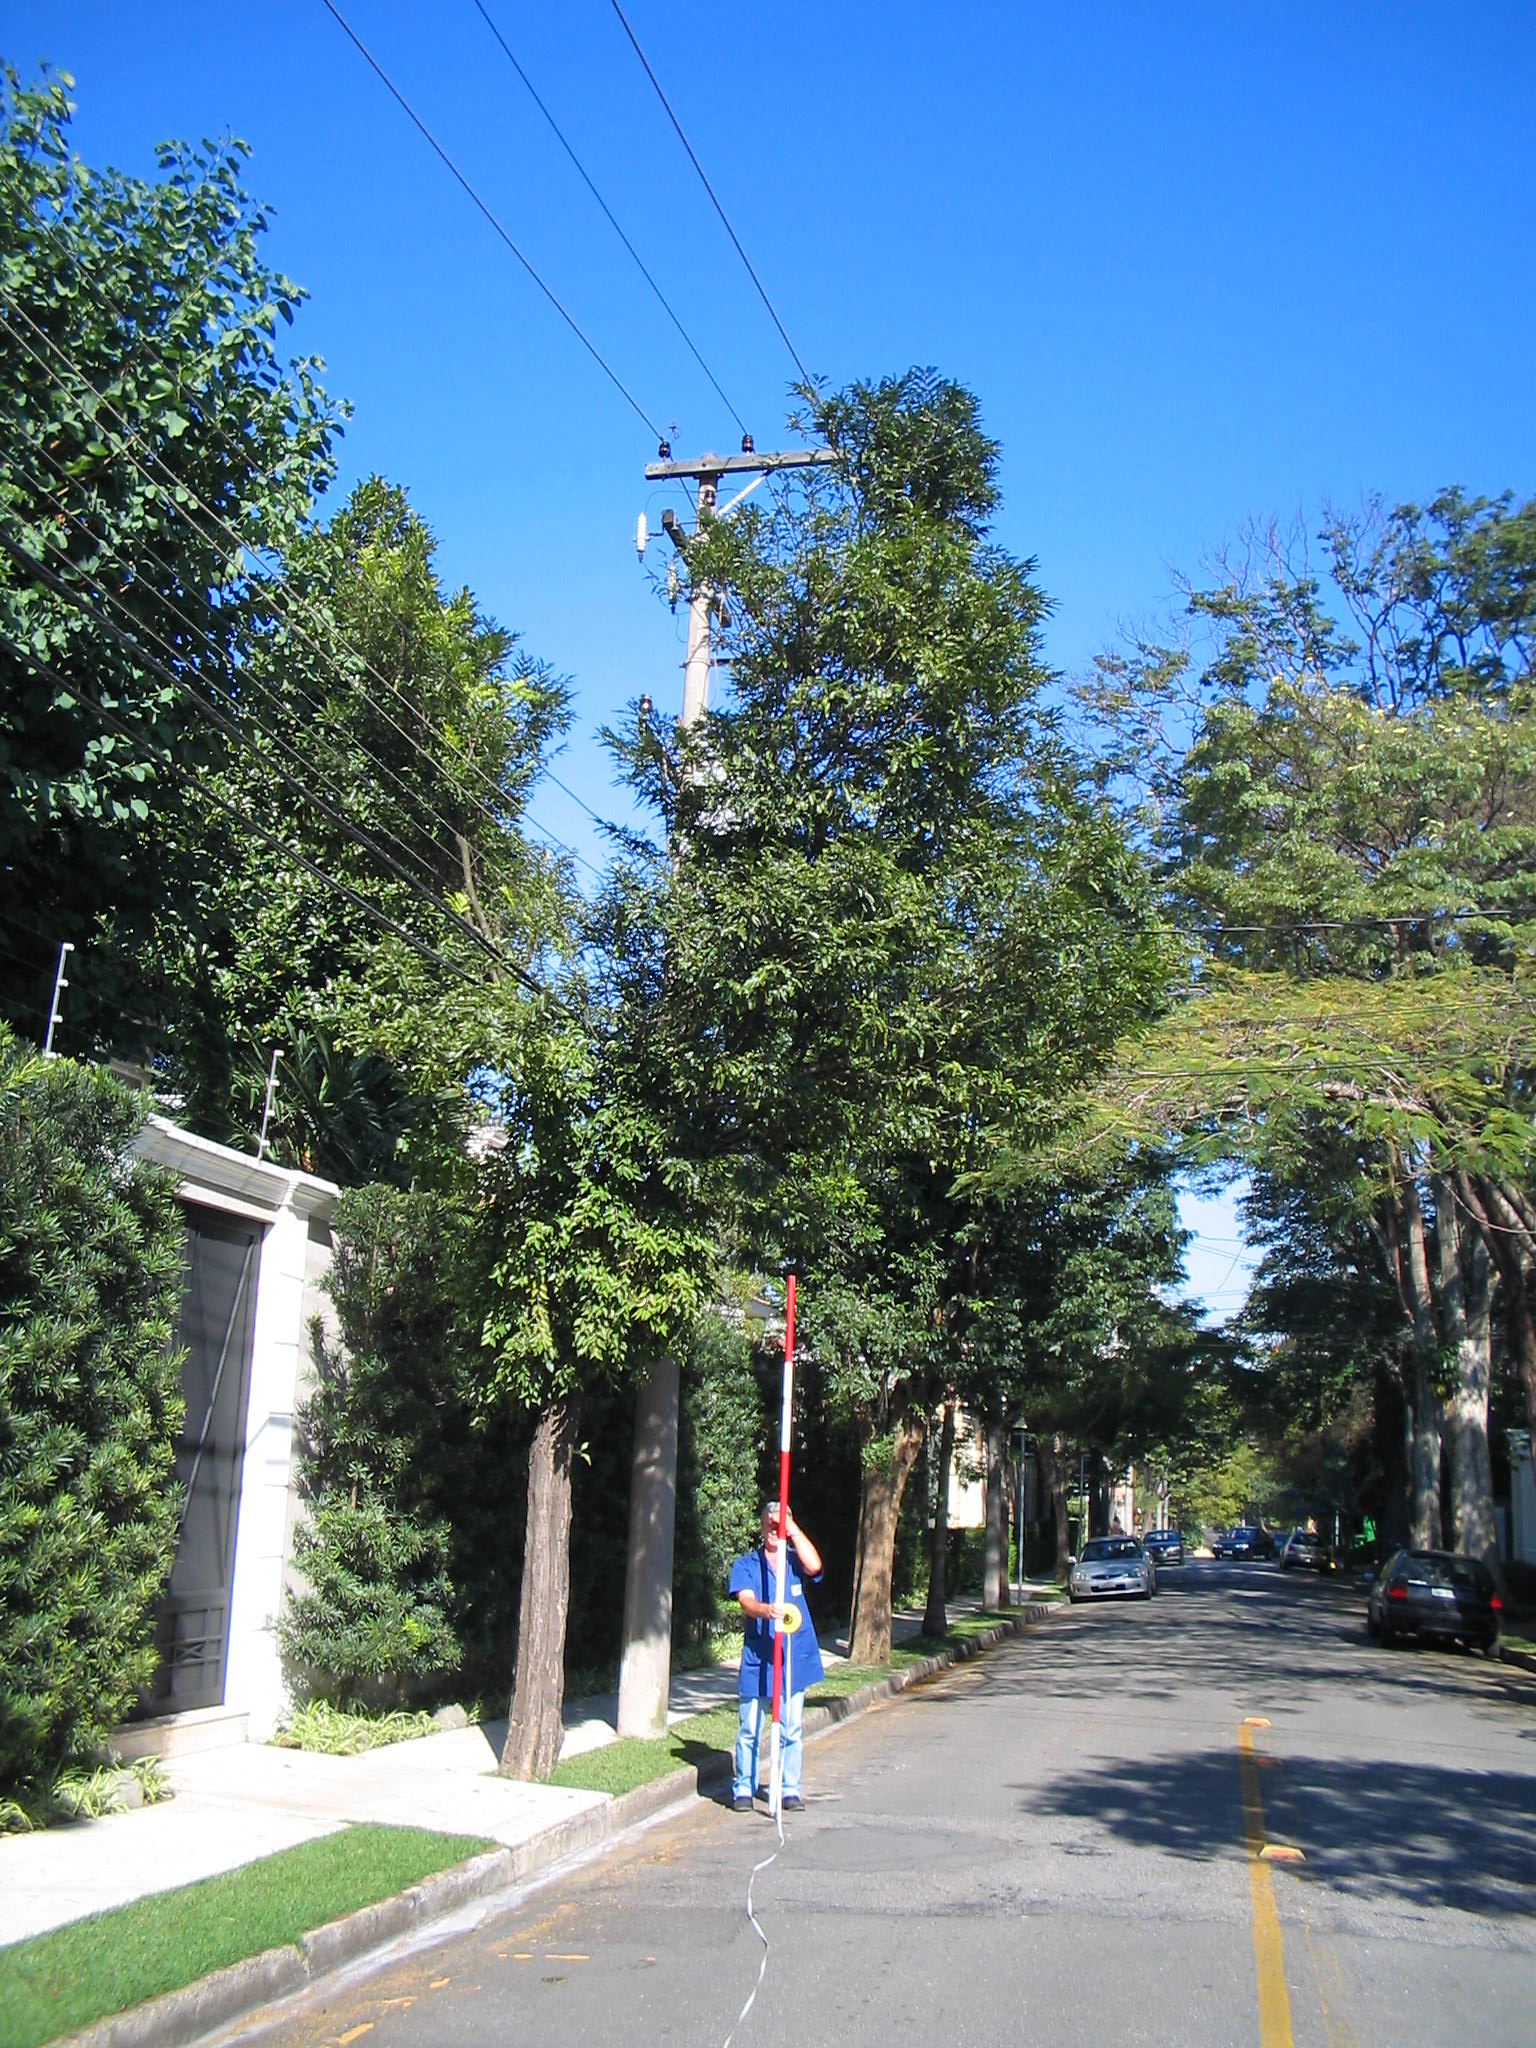stem: (466, 1424, 610, 1782), (820, 1442, 920, 1666)
stick: (753, 1271, 824, 1821)
